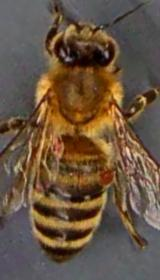varroa_mite: (90, 158, 123, 189)
